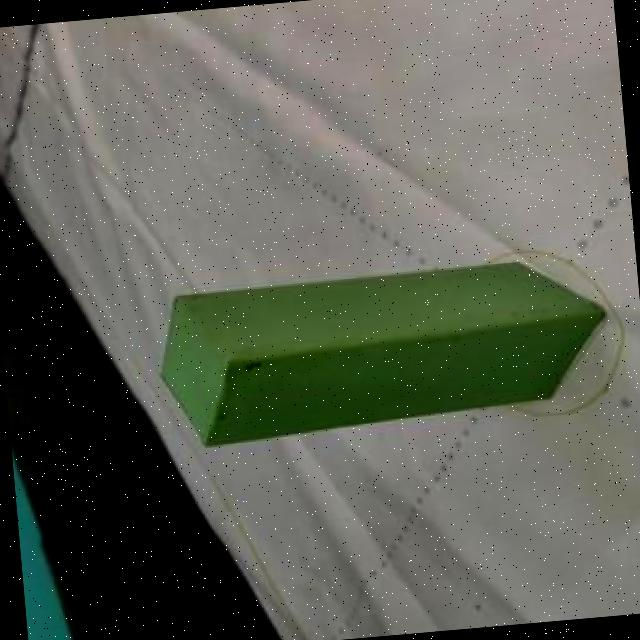greenbox: (150, 255, 620, 452)
